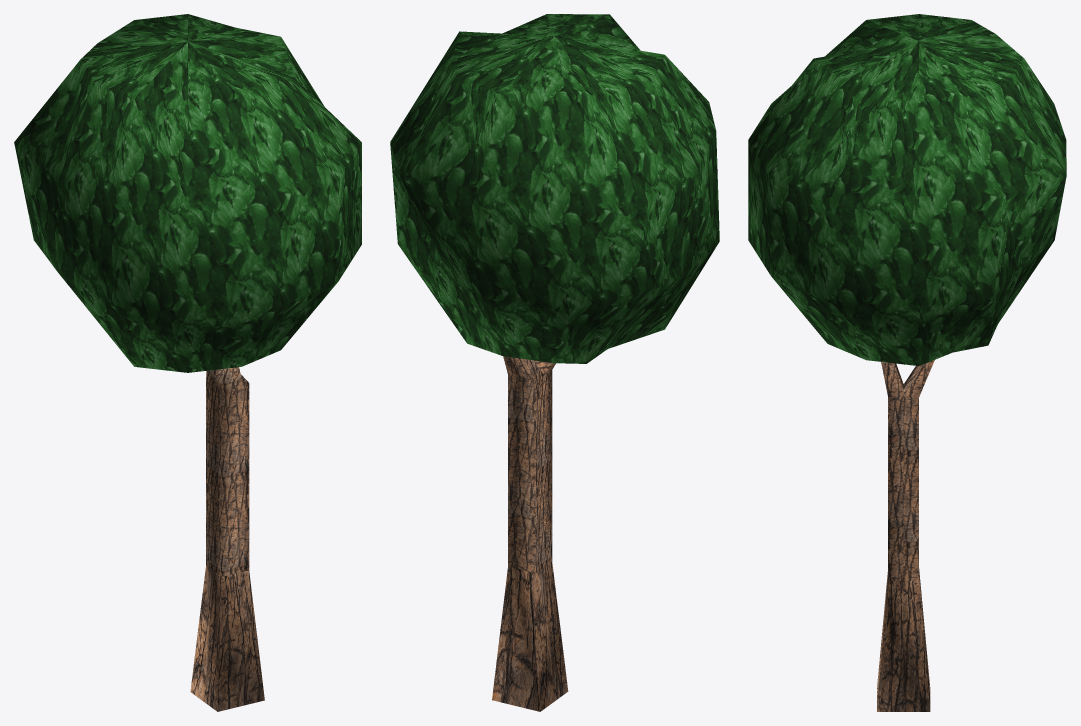
The model's file is tree.fbx.
3 renders of one model, left to right at view 1: azimuth 30°, elevation 25°; view 2: azimuth 150°, elevation 25°; view 3: azimuth 270°, elevation 25°, orthographic. The views are drawn at different scales.
Parts seen in each view (by area): view 1: Sphere; view 2: Sphere; view 3: Sphere.
Boxes of the visible parts, box(x1,y1,x2,y2) form: Sphere: box(14, 14, 361, 711); Sphere: box(390, 14, 719, 711); Sphere: box(748, 14, 1066, 711).
Bounding box in the file's own units: 654 × 1509 × 675.
